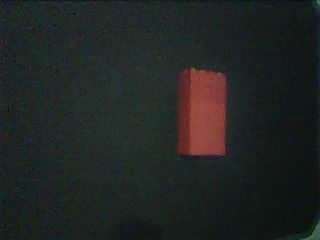lego: (176, 67, 228, 156)
